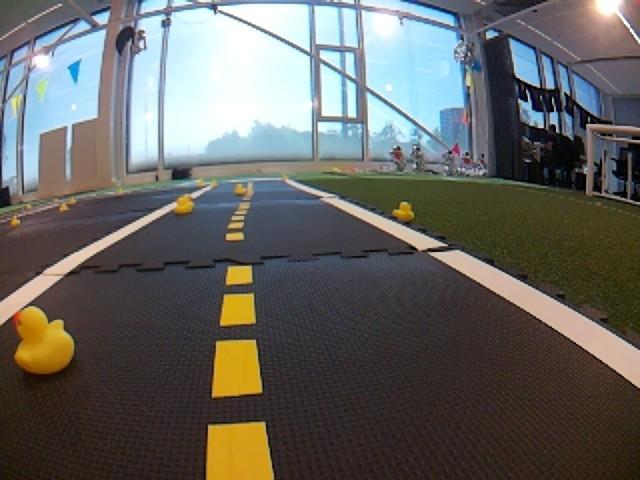Duckies: (11, 306, 73, 376), (391, 202, 414, 221), (173, 198, 192, 213), (234, 184, 248, 193), (12, 215, 21, 224), (58, 205, 68, 211), (67, 198, 75, 204), (209, 181, 217, 186), (196, 181, 204, 185), (118, 188, 123, 194), (282, 176, 287, 180), (26, 204, 31, 208)
